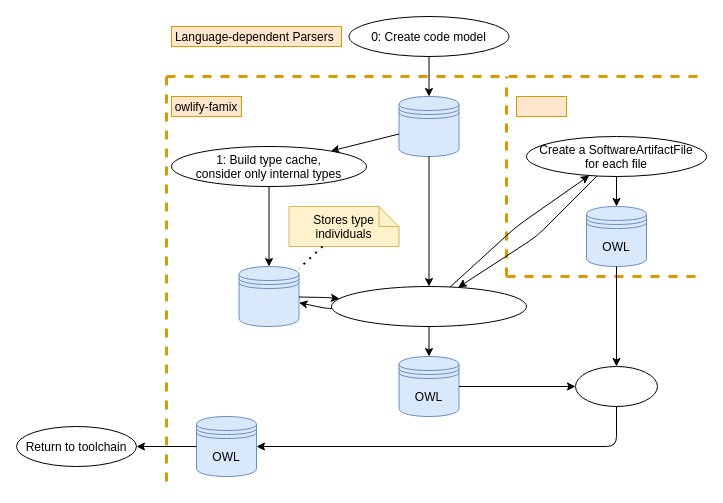
Some shapes in this 723 by 503 pixel diagram are drawn without their labels. Each missing label, with the box of its shape:
2: Top-down transformation to OWL, add external types: (330, 286, 526, 326)
Code Model: (398, 96, 459, 156)
Finalize: (574, 366, 658, 406)
owlify: (516, 96, 566, 116)
Type Cache: (238, 266, 299, 326)
